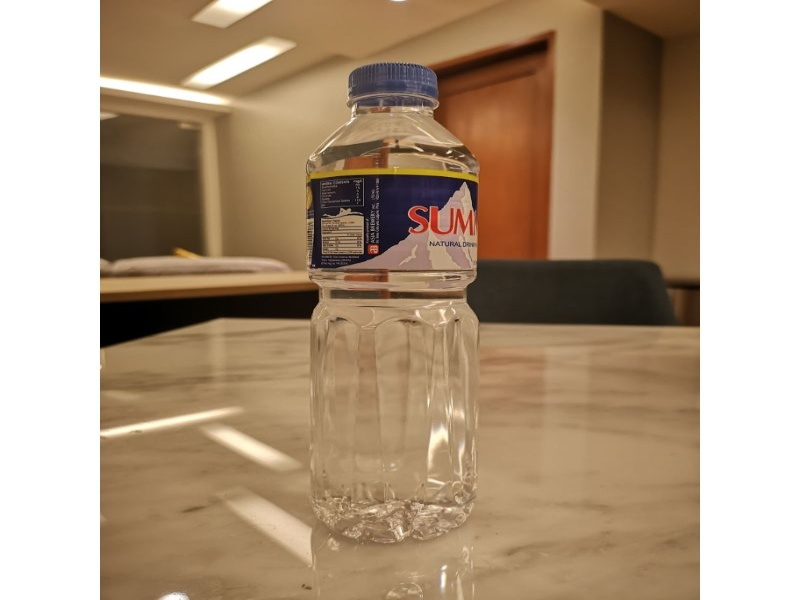PET #1: (301, 62, 480, 549)
